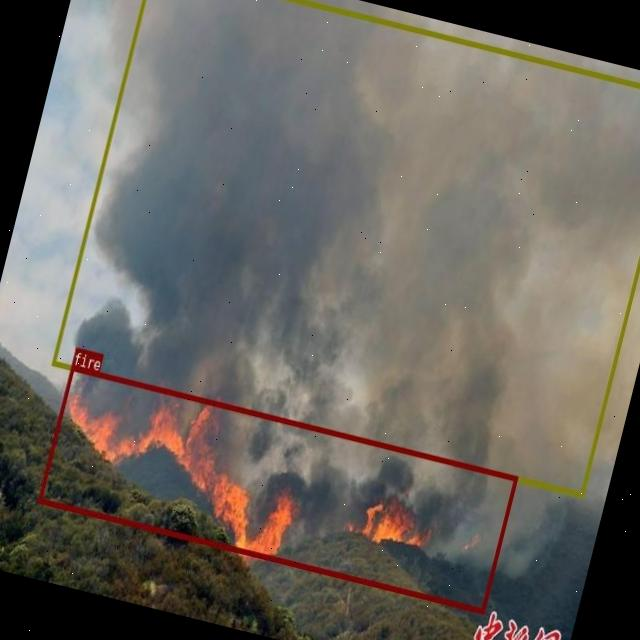fire: (37, 364, 517, 612)
smoke: (50, 0, 640, 496)
